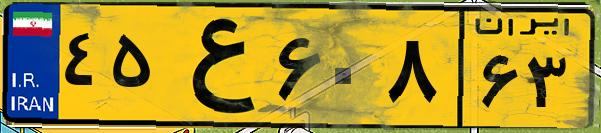0: (330, 28, 385, 110)
3: (525, 38, 570, 115)
4: (57, 26, 110, 100)
5: (110, 28, 158, 98)
6: (270, 28, 330, 110), (475, 38, 525, 113)
8: (385, 28, 445, 110)
ع: (158, 12, 270, 120)
